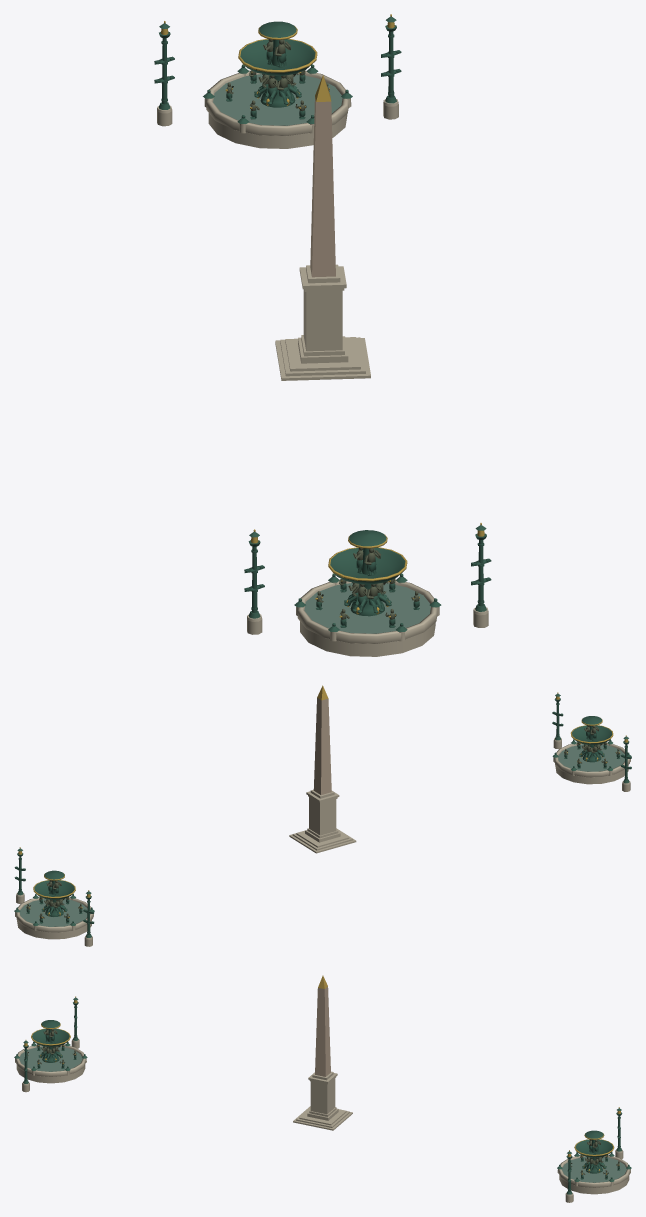
Rendered from place-de-la-concorde-obelisk-far.glb.
3 renders of one model, top to bottom at view 1: azimuth 30°, elevation 25°; view 2: azimuth 150°, elevation 25°; view 3: azimuth 270°, elevation 25°, orthographic. The views are drawn at different scales.
Parts seen in each view (by area): view 1: place-de-la-concorde-obelisk-0-stone, place-de-la-concorde-obelisk-0-patina, place-de-la-concorde-obelisk-0-water, place-de-la-concorde-obelisk-0-granite, place-de-la-concorde-obelisk-0-bronze, place-de-la-concorde-obelisk-0-gold; view 2: place-de-la-concorde-obelisk-0-stone, place-de-la-concorde-obelisk-0-patina, place-de-la-concorde-obelisk-0-water, place-de-la-concorde-obelisk-0-granite, place-de-la-concorde-obelisk-0-bronze, place-de-la-concorde-obelisk-0-gold; view 3: place-de-la-concorde-obelisk-0-stone, place-de-la-concorde-obelisk-0-patina, place-de-la-concorde-obelisk-0-water, place-de-la-concorde-obelisk-0-granite, place-de-la-concorde-obelisk-0-bronze, place-de-la-concorde-obelisk-0-gold.
Part boxes in pixels (x1,y1,x2,y2): place-de-la-concorde-obelisk-0-stone: [157, 70, 488, 656]; place-de-la-concorde-obelisk-0-patina: [154, 16, 491, 631]; place-de-la-concorde-obelisk-0-water: [213, 74, 430, 633]; place-de-la-concorde-obelisk-0-granite: [310, 97, 335, 277]; place-de-la-concorde-obelisk-0-bronze: [226, 39, 419, 619]; place-de-la-concorde-obelisk-0-gold: [161, 14, 484, 617]; place-de-la-concorde-obelisk-0-stone: [15, 738, 630, 946]; place-de-la-concorde-obelisk-0-patina: [14, 693, 631, 937]; place-de-la-concorde-obelisk-0-water: [19, 744, 624, 926]; place-de-la-concorde-obelisk-0-granite: [313, 698, 331, 794]; place-de-la-concorde-obelisk-0-bronze: [26, 725, 619, 918]; place-de-la-concorde-obelisk-0-gold: [18, 685, 628, 917]; place-de-la-concorde-obelisk-0-stone: [15, 1039, 630, 1202]; place-de-la-concorde-obelisk-0-patina: [14, 997, 631, 1194]; place-de-la-concorde-obelisk-0-water: [19, 1046, 626, 1182]; place-de-la-concorde-obelisk-0-granite: [315, 987, 330, 1076]; place-de-la-concorde-obelisk-0-bronze: [27, 1029, 619, 1175]; place-de-la-concorde-obelisk-0-gold: [24, 975, 620, 1174].
Size of the model in its own units: 79.3 by 34.87 by 131.
